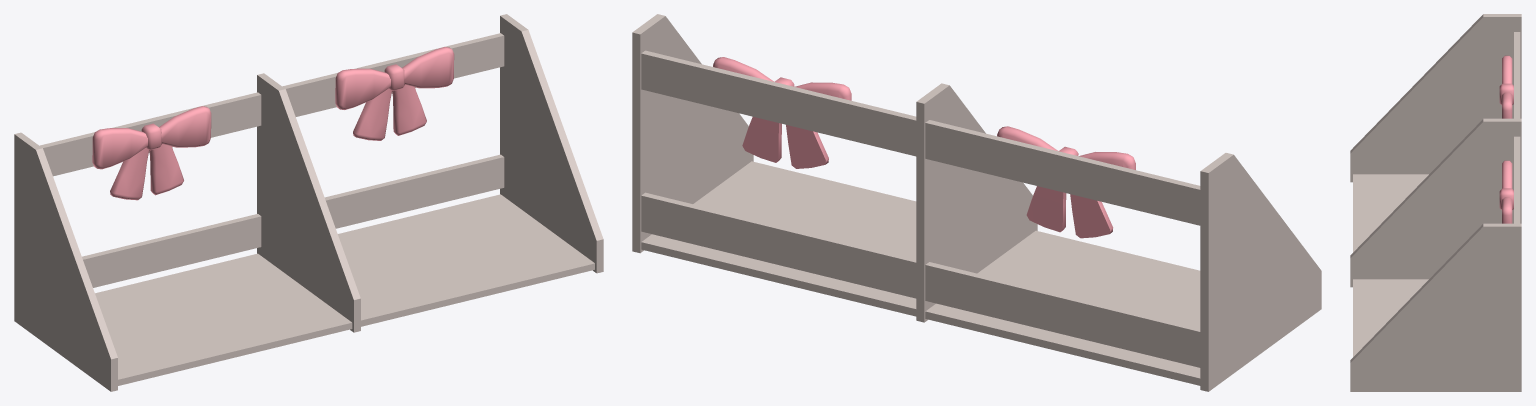
The model's file is WallShelf_K.fbx.
The picture shows the model from 3 angles, left to right: view 1: azimuth 30°, elevation 25°; view 2: azimuth 150°, elevation 25°; view 3: azimuth 270°, elevation 25°; orthographic projection. The views are drawn at different scales.
Visible parts, largest first — view 1: WallShelf_11, polySurface9.001, polySurface9.002; view 2: WallShelf_11, polySurface9.002, polySurface9.001; view 3: WallShelf_11, polySurface9.002, polySurface9.001.
Boxes of the visible parts, x1,y1,x2,y2 form: WallShelf_11: (14, 14, 603, 391); polySurface9.001: (92, 106, 211, 200); polySurface9.002: (335, 47, 454, 140); WallShelf_11: (632, 14, 1321, 391); polySurface9.002: (713, 57, 851, 168); polySurface9.001: (997, 126, 1135, 238); WallShelf_11: (1350, 14, 1521, 391); polySurface9.002: (1499, 160, 1513, 223); polySurface9.001: (1499, 55, 1513, 118).
Size of the model in its own units: 95.75 by 34.74 by 32.58.
